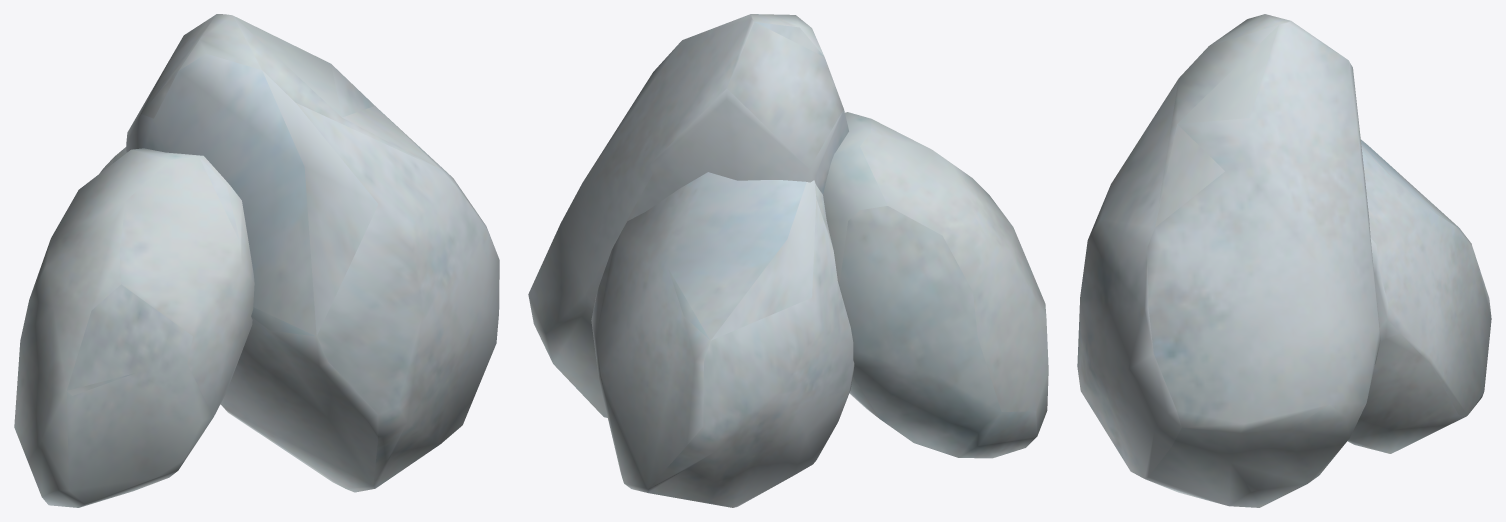
File: P_RockClumpClassic9.obj
3 views of the same model, side by side, from view 1: azimuth 30°, elevation 25°; view 2: azimuth 150°, elevation 25°; view 3: azimuth 270°, elevation 25° (orthographic). The views are drawn at different scales.
Size of the model in its own units: 4.3 by 4.11 by 3.54.
